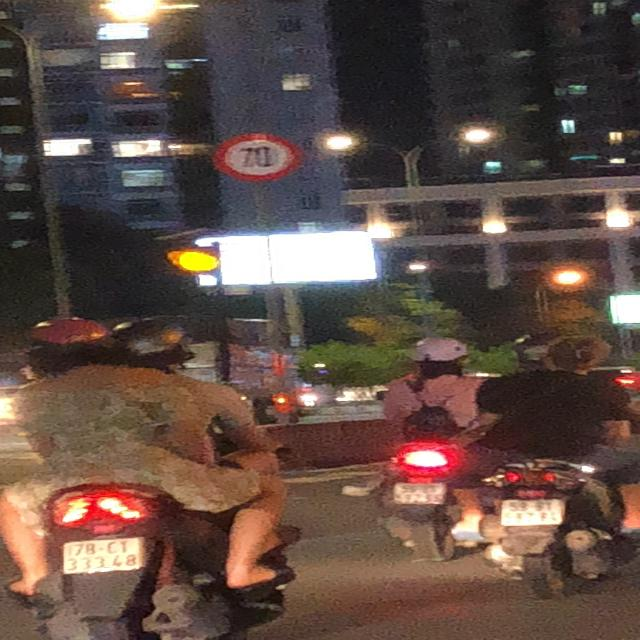Bien bao toc do toi da cho phep: (205, 128, 319, 190)
